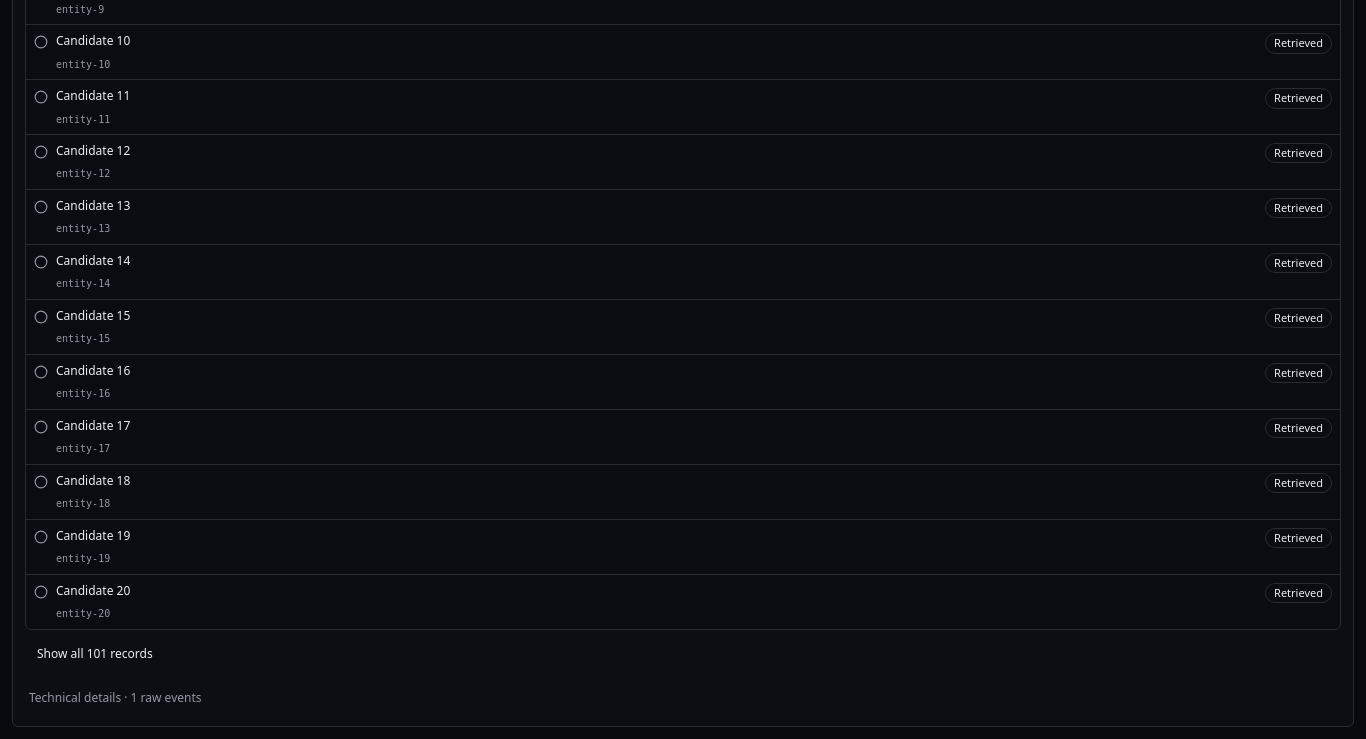
Test: Timeline › preserves typed candidate details and bounded raw tables
The width and height of the screenshot is (1366, 739).
(page scrolled)
Expected: the text "Candidate 101" is not shown
Click the button "Show all 101 records": (95, 654) [25,638,165,670]
(page scrolled)
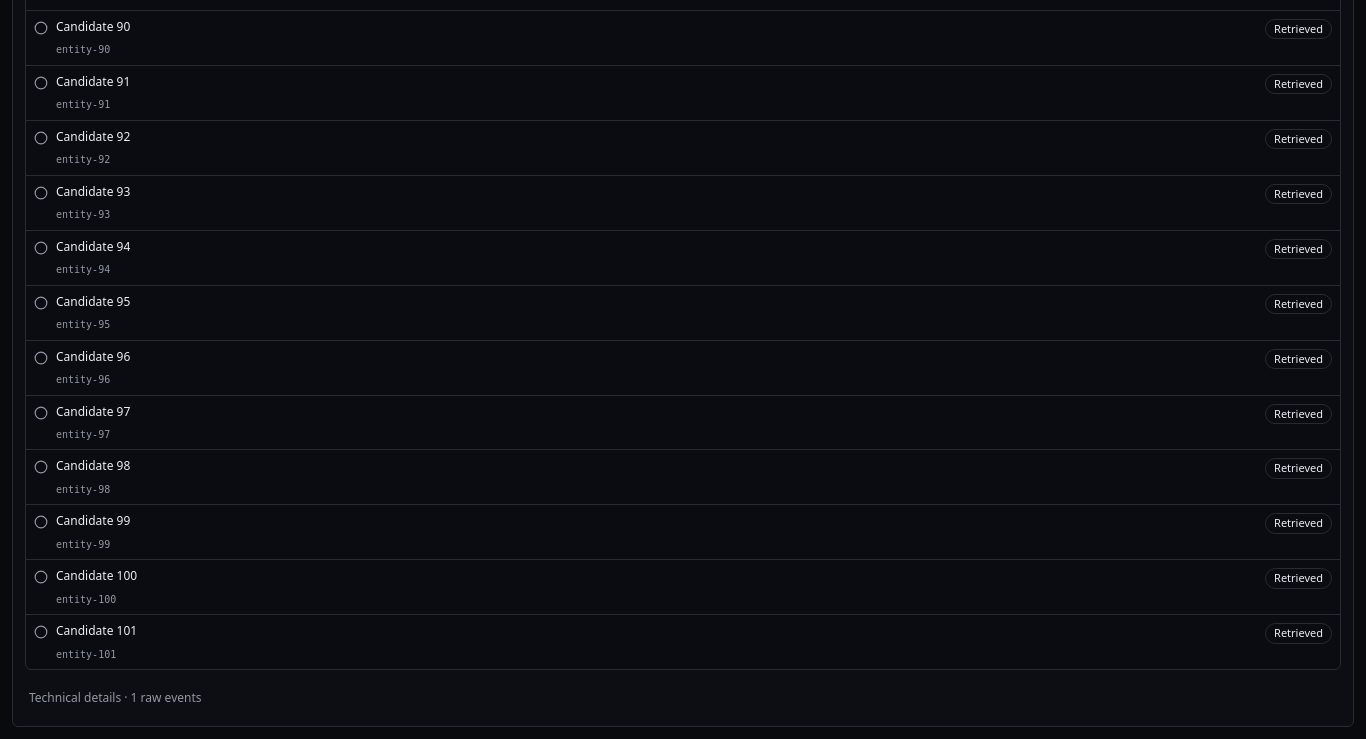
Expected: the button "Candidate 101" is shown, [56,623,137,639]
Click the button "Technical details · 1 raw events": (115, 698) [25,682,206,714]
(page scrolled)
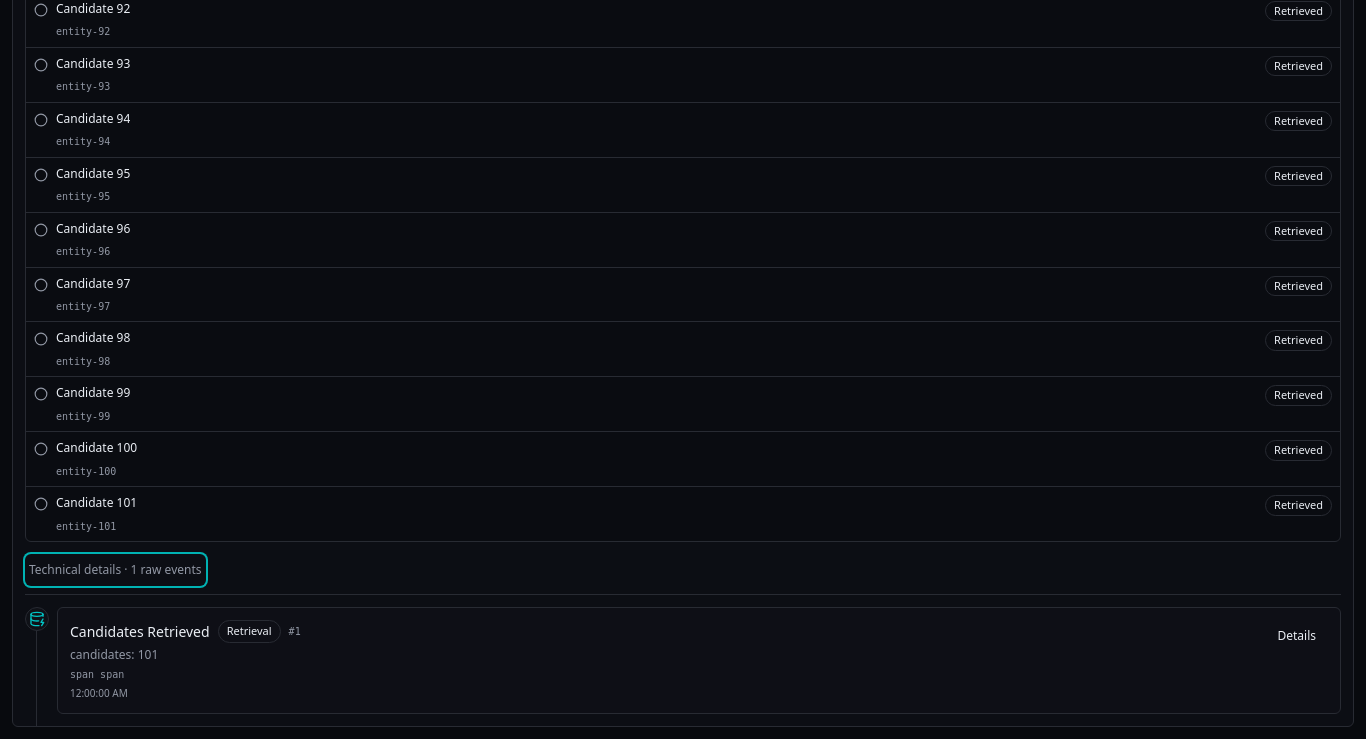
Click the button "Details": (1297, 636) [1266,620,1328,652]
(page scrolled)
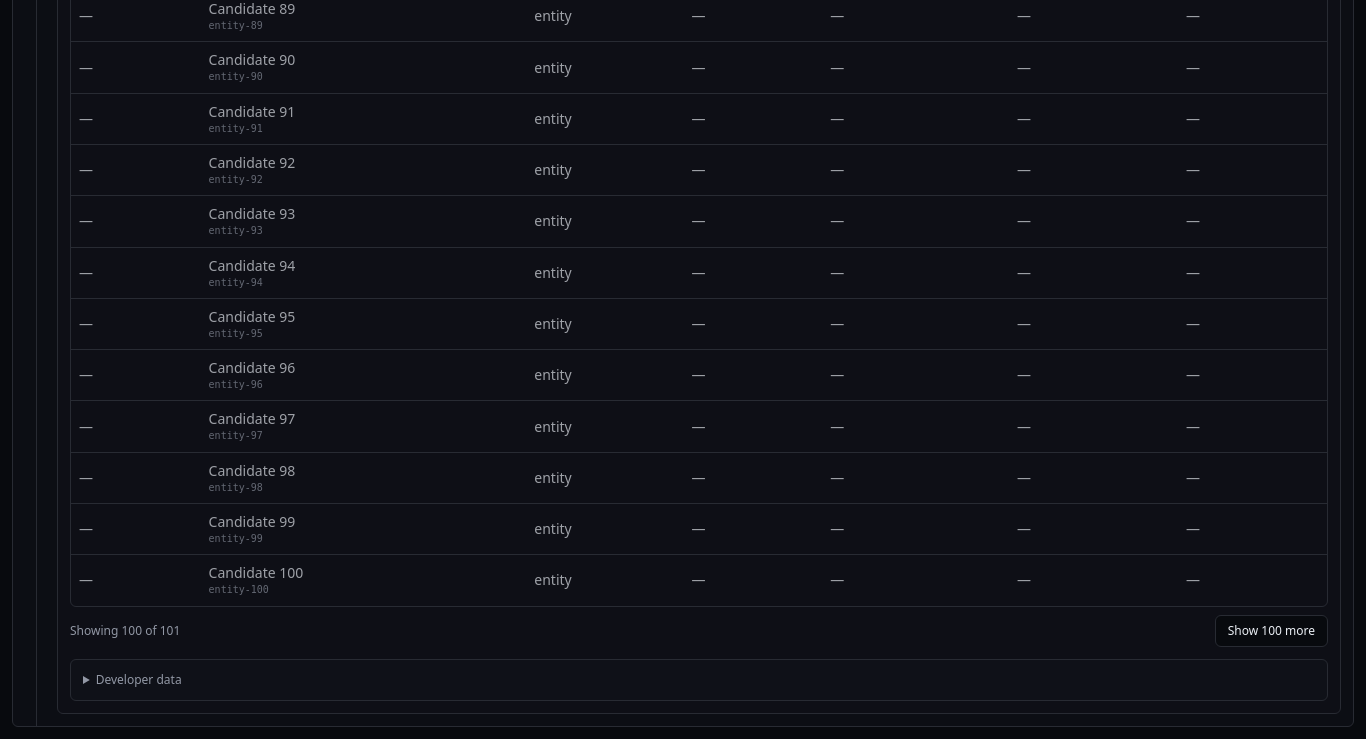
Expected: the text "Showing 100 of 101" is shown, [70,622,180,638]
Expected: the heading "Developer data" is shown, [96,670,182,688]
